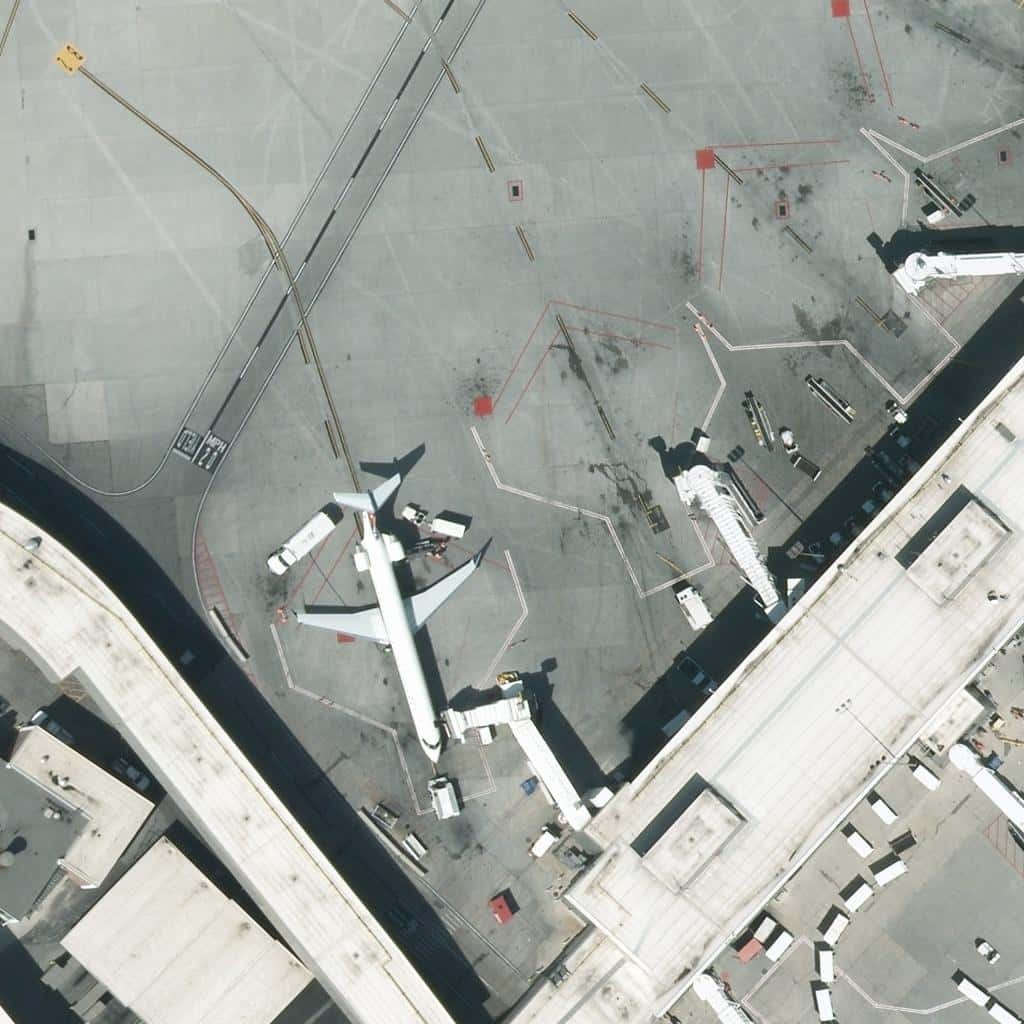plane: (299, 482, 480, 764)
